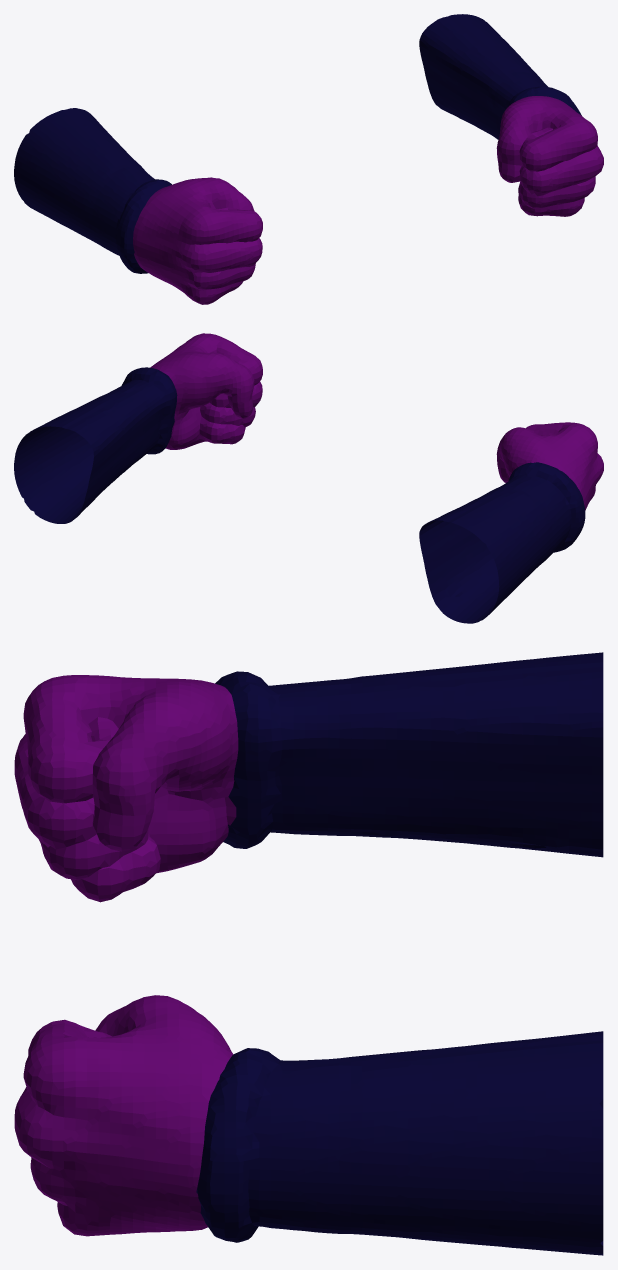
File: Hand.fbx
3 views of the same model, one above another, from view 1: azimuth 30°, elevation 25°; view 2: azimuth 150°, elevation 25°; view 3: azimuth 270°, elevation 25° (orthographic). The views are drawn at different scales.
Parts seen in each view (by area): view 1: uploads_files_2314677_wiiFist_SubTool1; view 2: uploads_files_2314677_wiiFist_SubTool1; view 3: uploads_files_2314677_wiiFist_SubTool1.
Boxes of the visible parts, bbox=[...] form: uploads_files_2314677_wiiFist_SubTool1: bbox=[14, 14, 603, 304]; uploads_files_2314677_wiiFist_SubTool1: bbox=[14, 333, 603, 623]; uploads_files_2314677_wiiFist_SubTool1: bbox=[14, 652, 603, 1255].
Size of the model in its own units: 276 by 56.48 by 145.
